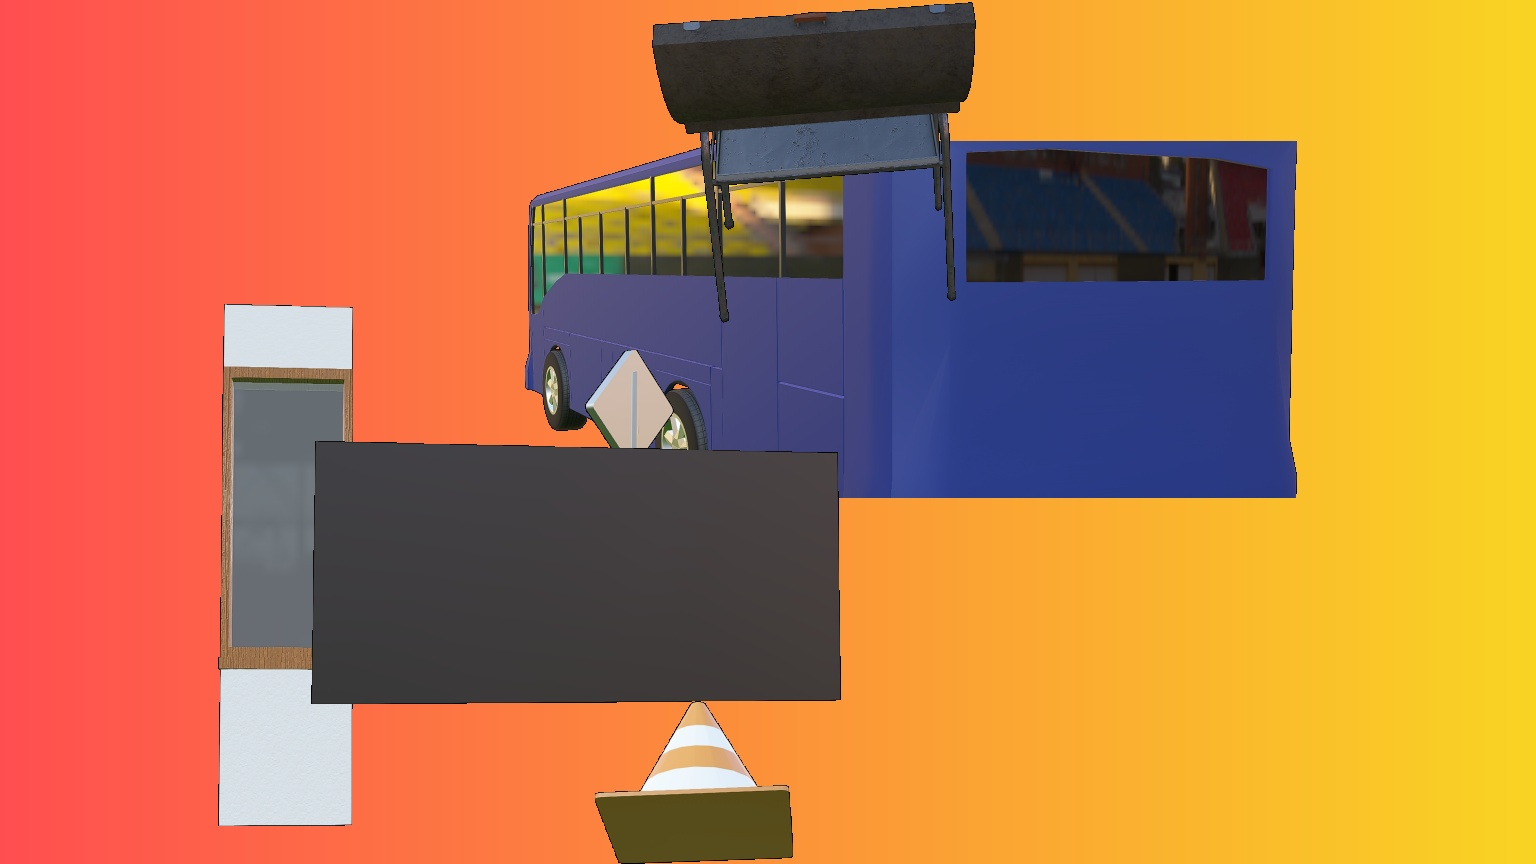barbacoa: (652, 2, 976, 323)
bus: (524, 141, 1298, 498)
cono: (594, 700, 794, 864)
teclado: (311, 440, 841, 705)
ventana: (218, 303, 354, 827)
